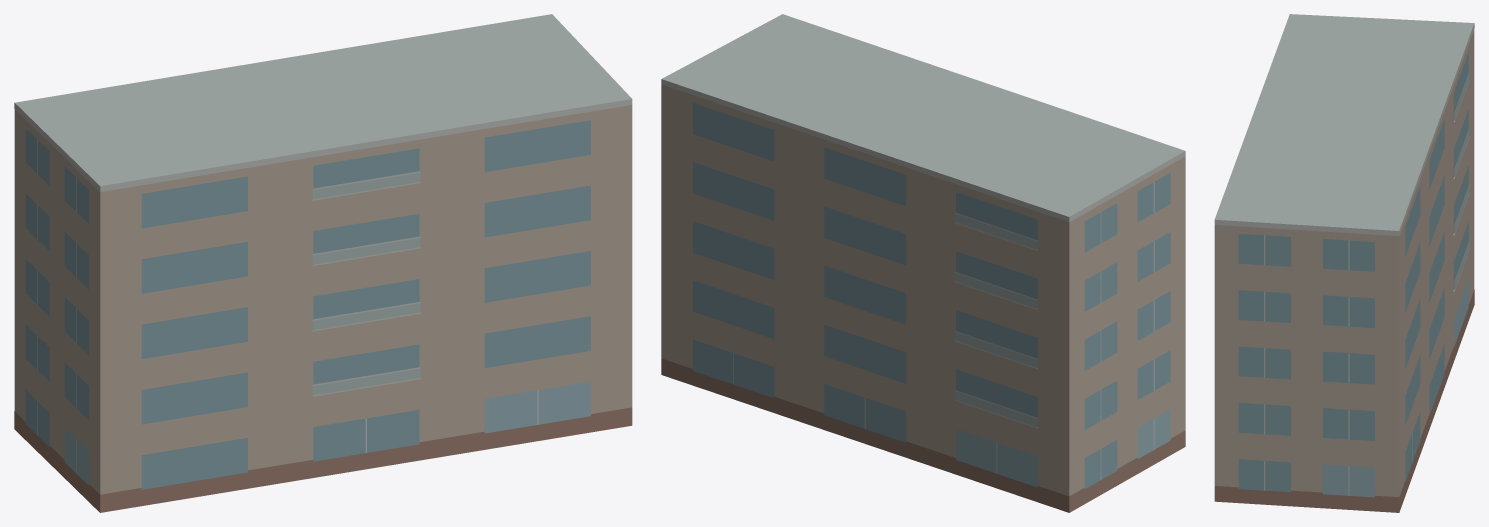
Rendered from survey-upis-32707721.glb.
3 views of the same model, side by side, from view 1: azimuth 30°, elevation 25°; view 2: azimuth 150°, elevation 25°; view 3: azimuth 270°, elevation 25° (orthographic). The views are drawn at different scales.
Parts seen in each view (by area): view 1: survey-upis-32707721.tmp; view 2: survey-upis-32707721.tmp; view 3: survey-upis-32707721.tmp.
Part boxes in pixels (bbox=[...]): survey-upis-32707721.tmp: bbox=[14, 14, 632, 512]; survey-upis-32707721.tmp: bbox=[661, 14, 1185, 512]; survey-upis-32707721.tmp: bbox=[1214, 14, 1474, 512].
Size of the model in its own units: 22.13 by 13.4 by 11.21.
